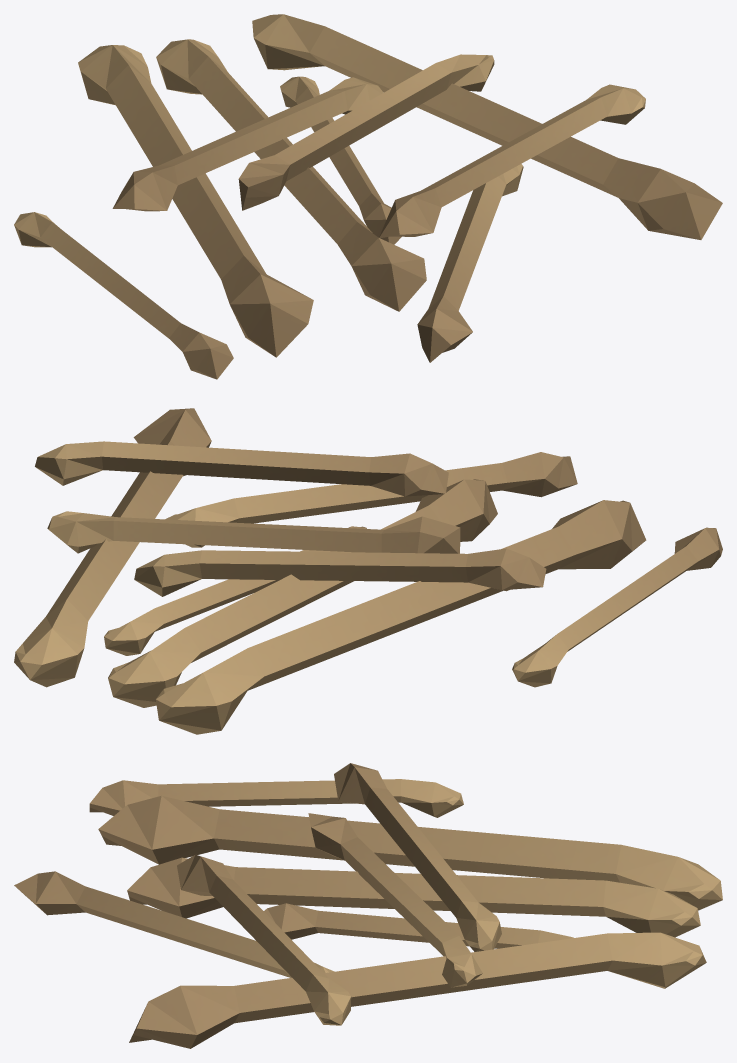
The model's file is Skull_2D.fbx.
The picture shows the model from 3 angles, top to bottom: view 1: azimuth 30°, elevation 25°; view 2: azimuth 150°, elevation 25°; view 3: azimuth 270°, elevation 25°; orthographic projection. The views are drawn at different scales.
Visible parts, largest first — view 1: polySurface1324; view 2: polySurface1324; view 3: polySurface1324.
Part boxes in pixels (x1,y1,x2,y2): polySurface1324: (14,14,722,379); polySurface1324: (14,408,722,734); polySurface1324: (14,763,722,1048).
Bounding box in the file's own units: 2.56 × 0.3992 × 2.91.
